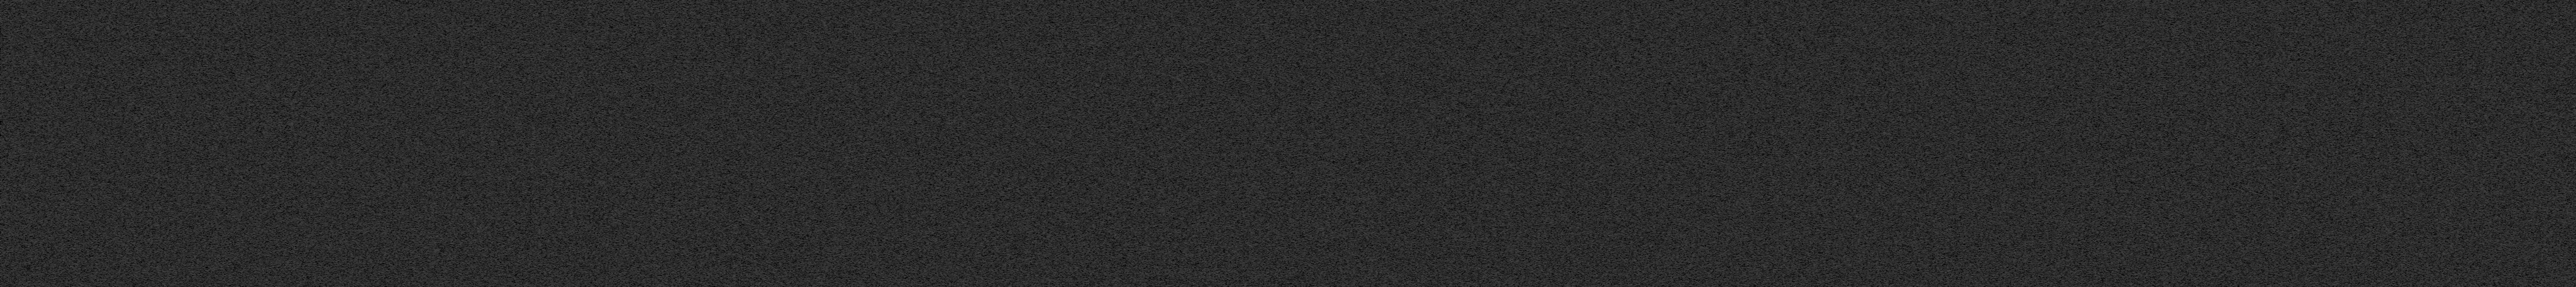wv_am: (2223, 0, 2229, 287), (2384, 0, 2387, 287), (2315, 0, 2318, 256), (2315, 257, 2318, 287)
wv_lsb: (1345, 59, 1349, 102), (1345, 148, 1349, 169), (1345, 112, 1349, 126), (1345, 5, 1349, 20), (1345, 20, 1349, 33), (1345, 171, 1349, 182), (1345, 43, 1349, 54), (1345, 184, 1349, 194), (1345, 248, 1349, 257), (1345, 128, 1349, 136), (1345, 102, 1349, 110), (1345, 34, 1349, 43), (1345, 264, 1349, 269), (1345, 243, 1349, 248), (1345, 141, 1349, 144), (1345, 136, 1349, 139), (1345, 231, 1349, 235), (1347, 218, 1349, 225), (1345, 194, 1349, 195), (1347, 144, 1349, 148), (1347, 208, 1349, 212), (1347, 197, 1349, 198), (1347, 200, 1349, 202)
wv_usb: (301, 2, 306, 235), (301, 244, 306, 287)
wv_wbfm: (2021, 0, 2154, 287), (352, 0, 480, 287), (2144, 180, 2164, 182), (2146, 185, 2160, 187), (2152, 97, 2164, 98), (2150, 269, 2160, 271)
